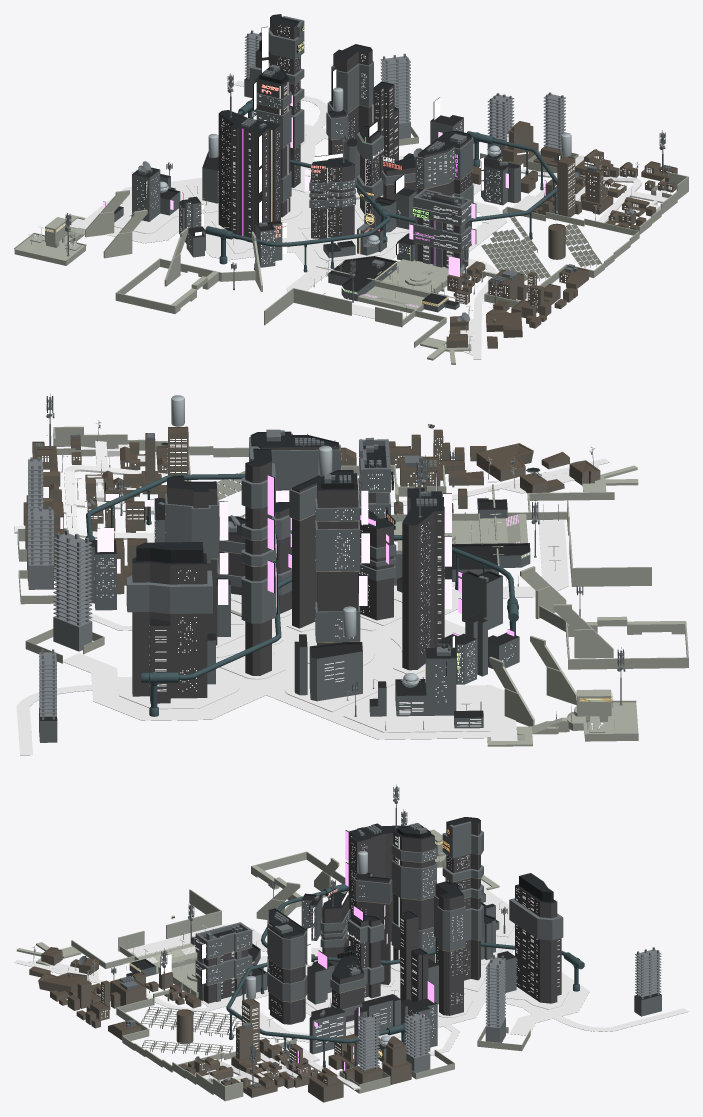
Rendered from jaijitesh_room.glb.
The picture shows the model from 3 angles, top to bottom: view 1: azimuth 30°, elevation 25°; view 2: azimuth 150°, elevation 25°; view 3: azimuth 270°, elevation 25°; orthographic projection. The views are drawn at different scales.
Visible parts, largest first — view 1: Cuberpunk2077.001_0; view 2: Cuberpunk2077.001_0; view 3: Cuberpunk2077.001_0.
Part boxes in pixels (bbox=[...]): Cuberpunk2077.001_0: bbox=[14, 14, 688, 364]; Cuberpunk2077.001_0: bbox=[14, 393, 688, 755]; Cuberpunk2077.001_0: bbox=[14, 784, 688, 1102].
Bounding box in the file's own units: 1059 × 297 × 1126.
Materials: 100 (35 with a texture image).
